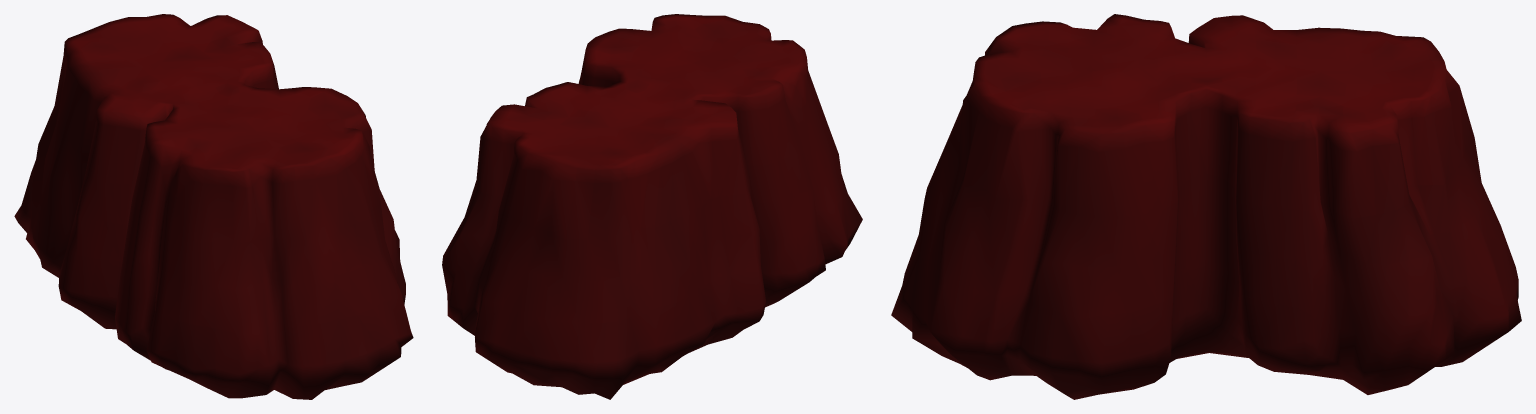
File: geology-landforms-rockmesalarge_v3.fbx
3 renders of one model, left to right at view 1: azimuth 30°, elevation 25°; view 2: azimuth 150°, elevation 25°; view 3: azimuth 270°, elevation 25°, orthographic. The views are drawn at different scales.
Parts seen in each view (by area): view 1: RockMesaLarge_v3; view 2: RockMesaLarge_v3; view 3: RockMesaLarge_v3.
Part boxes in pixels (<box>): RockMesaLarge_v3: <box>14,14,413,399</box>; RockMesaLarge_v3: <box>442,14,862,399</box>; RockMesaLarge_v3: <box>891,14,1521,399</box>.
Bounding box in the file's own units: 37.97 × 30.79 × 63.37.
